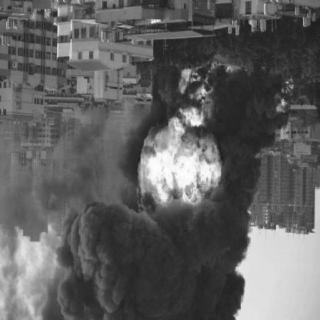Smoke: (41, 214, 259, 316), (212, 74, 276, 214)
